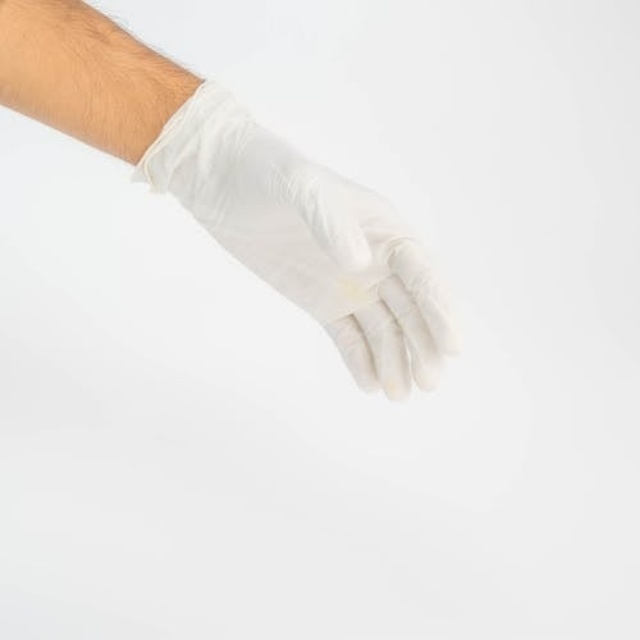Guantes: (132, 79, 464, 402)
